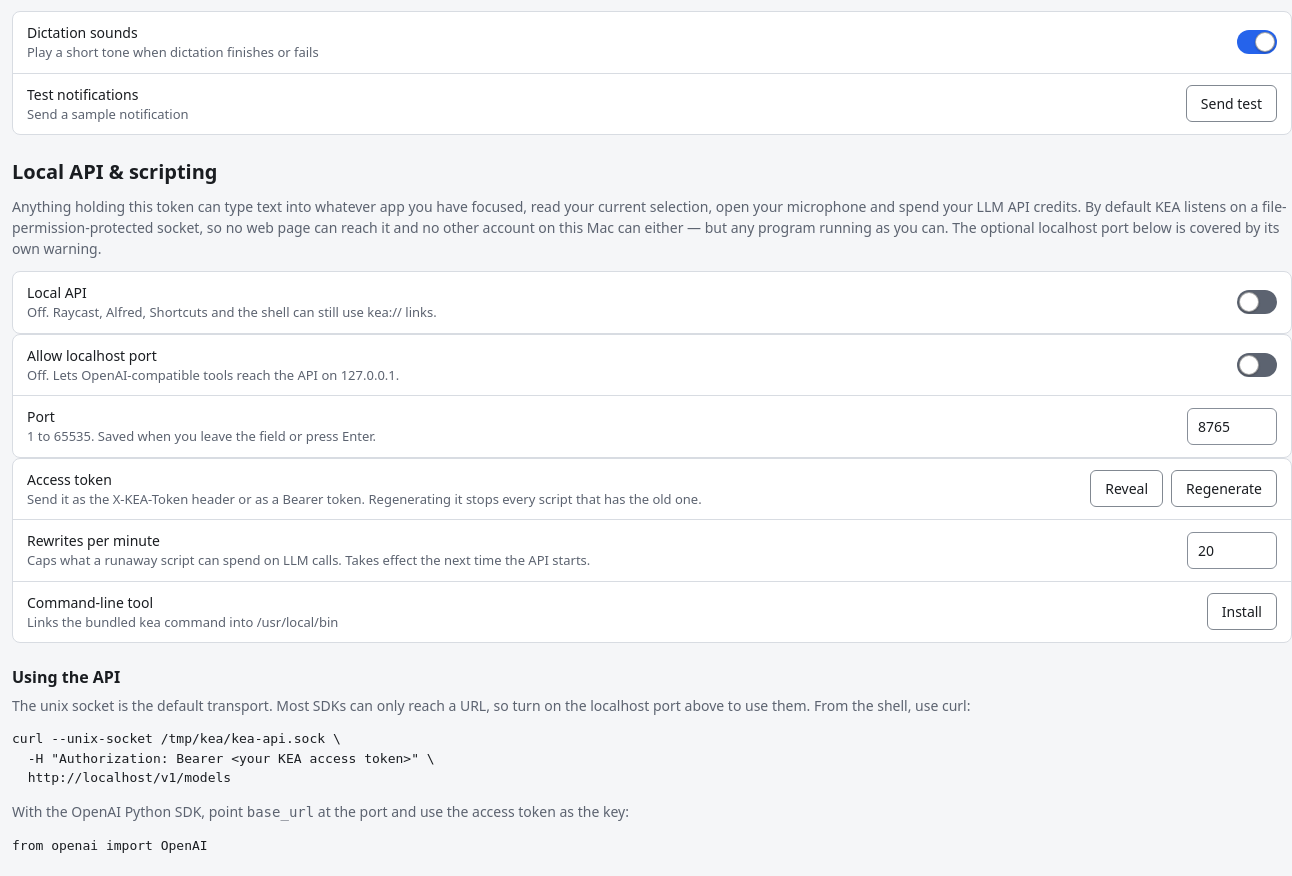
Scenario: GeneralPage › saves a new port on blur and refuses an out-of-range one
The width and height of the screenshot is (1292, 876).
(page scrolled)
Replace the text in the number field named "Localhost port" with "9000" at (1232, 426), box x1=1187 y1=408 x2=1277 y2=445
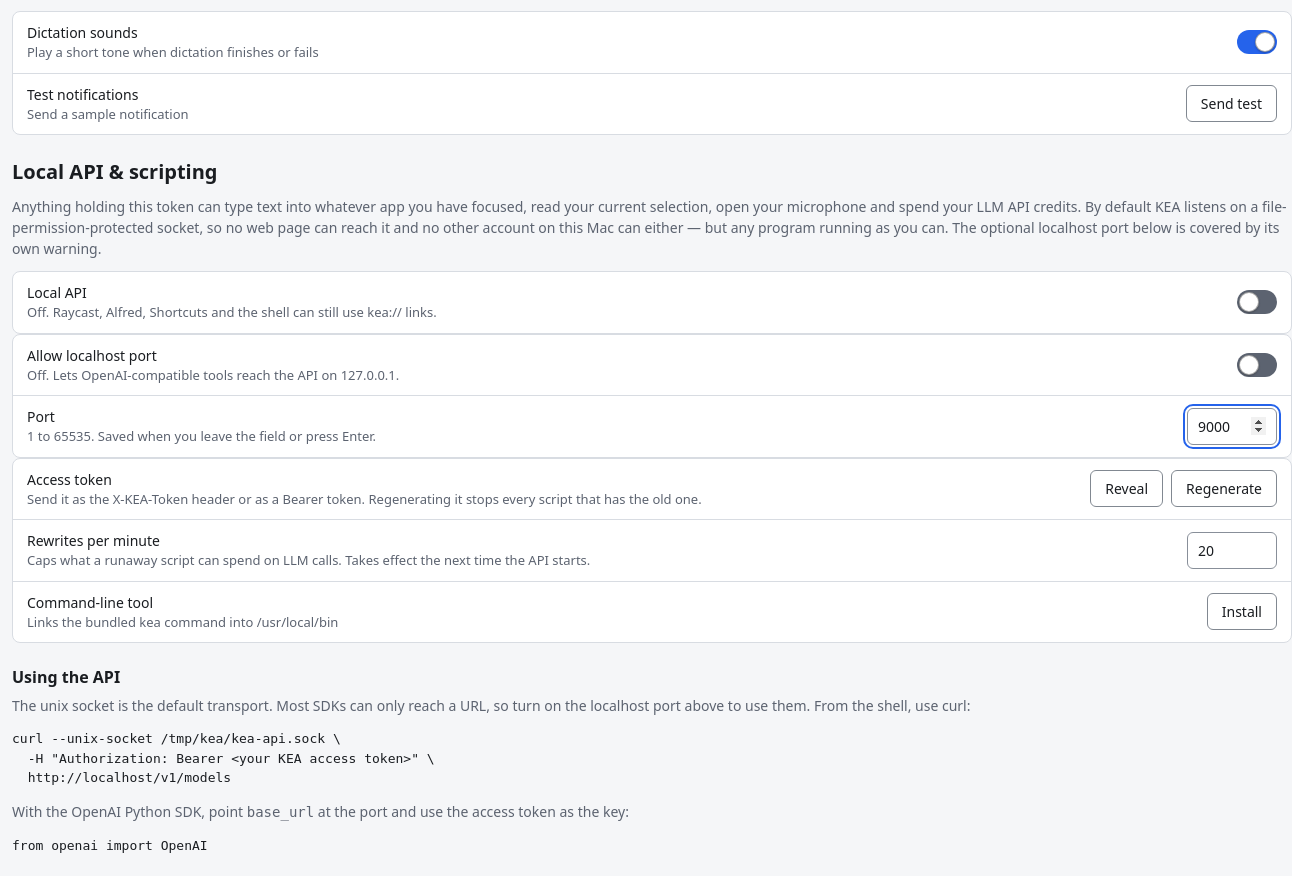
Press Tab
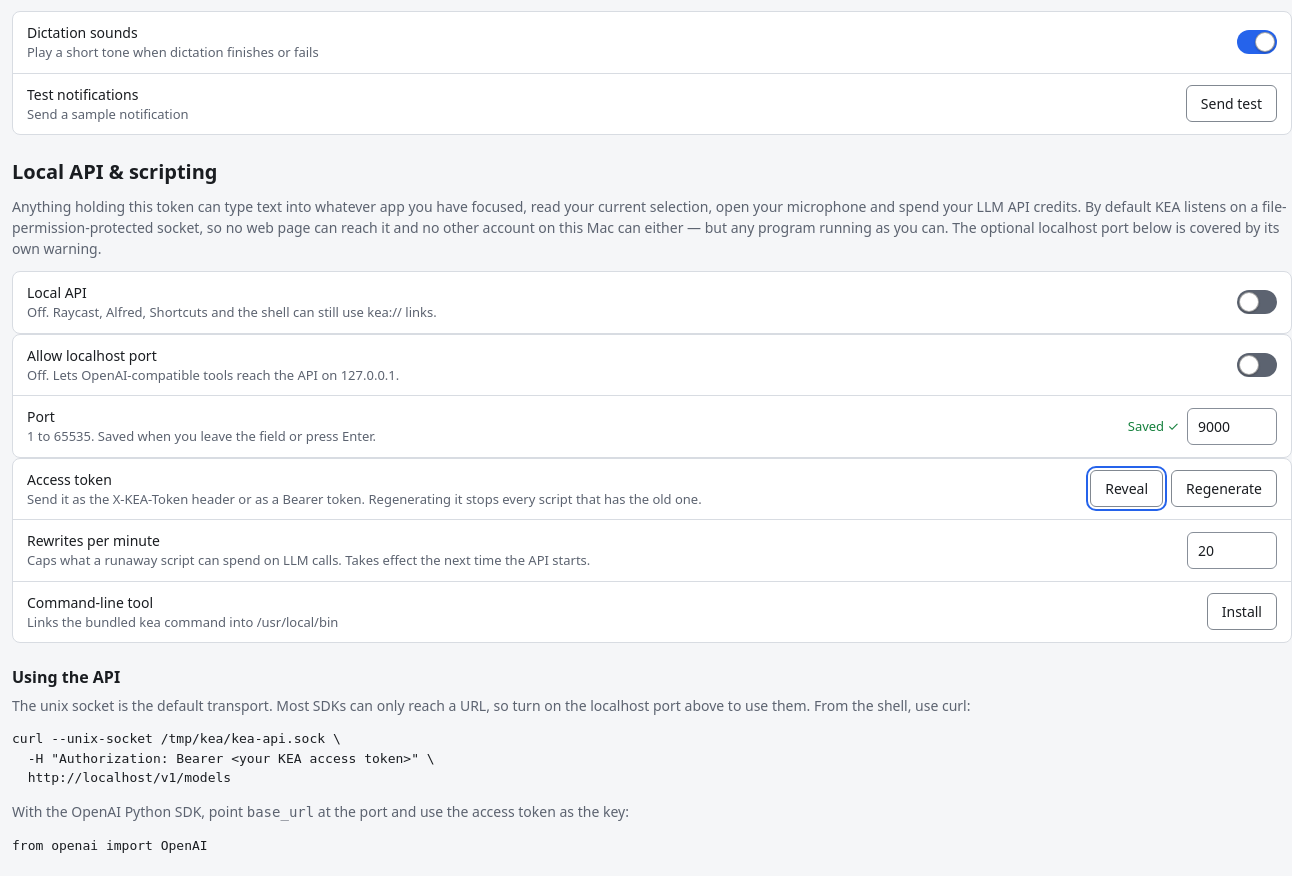
Replace the text in the number field named "Localhost port" with "70000" at (1232, 426), box x1=1187 y1=408 x2=1277 y2=445
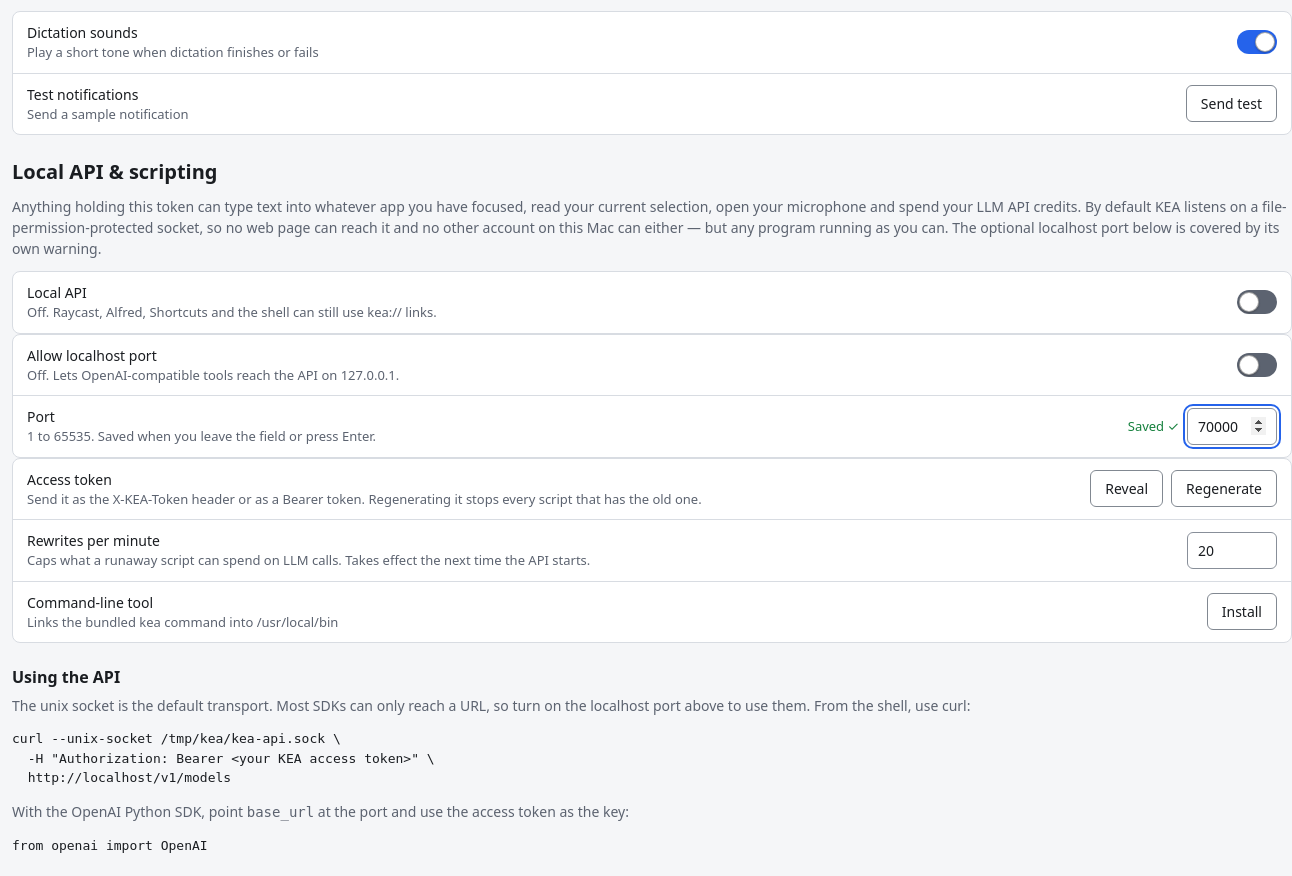
Press Tab
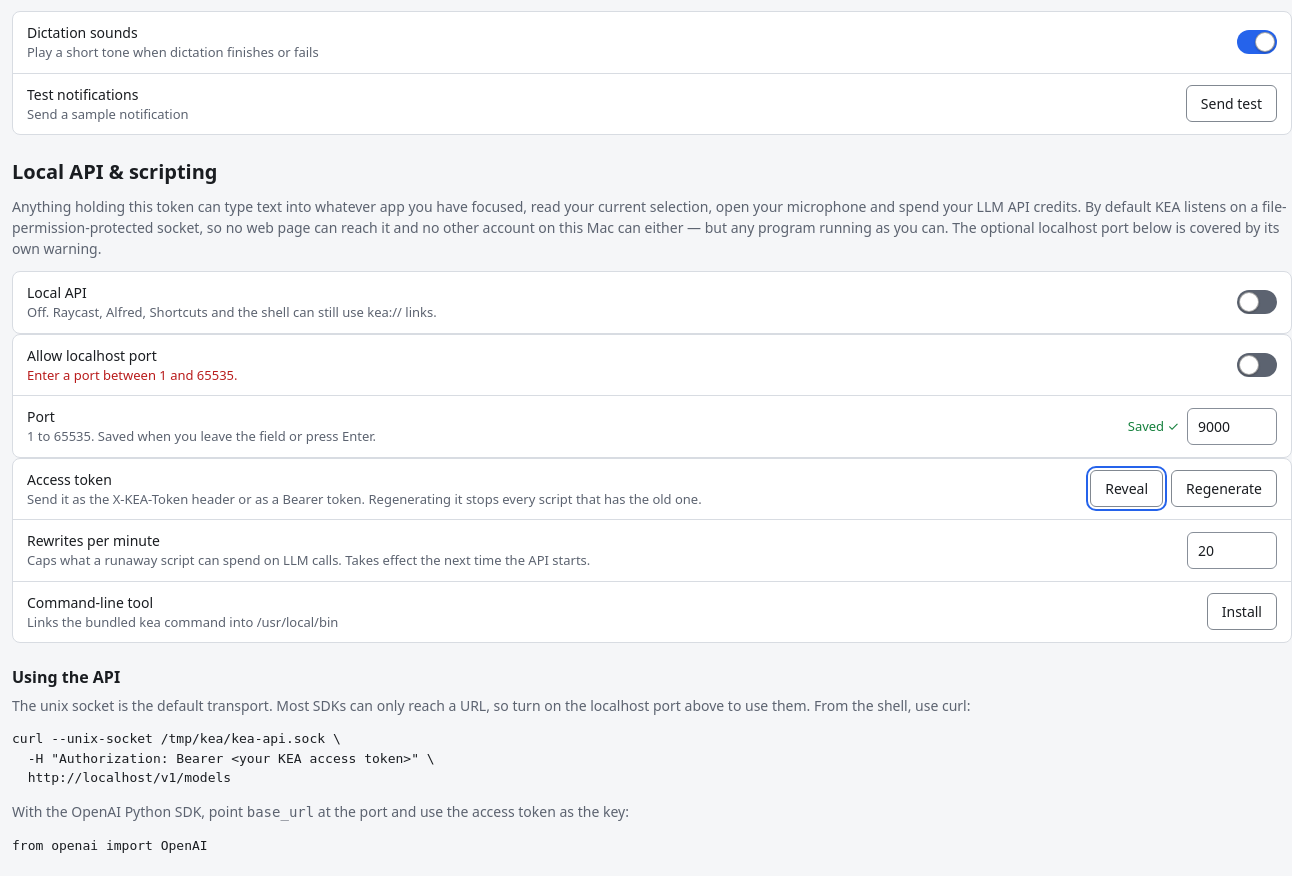
Now the text "Enter a port between 1 and 65535." is shown, box x1=27 y1=366 x2=238 y2=385
